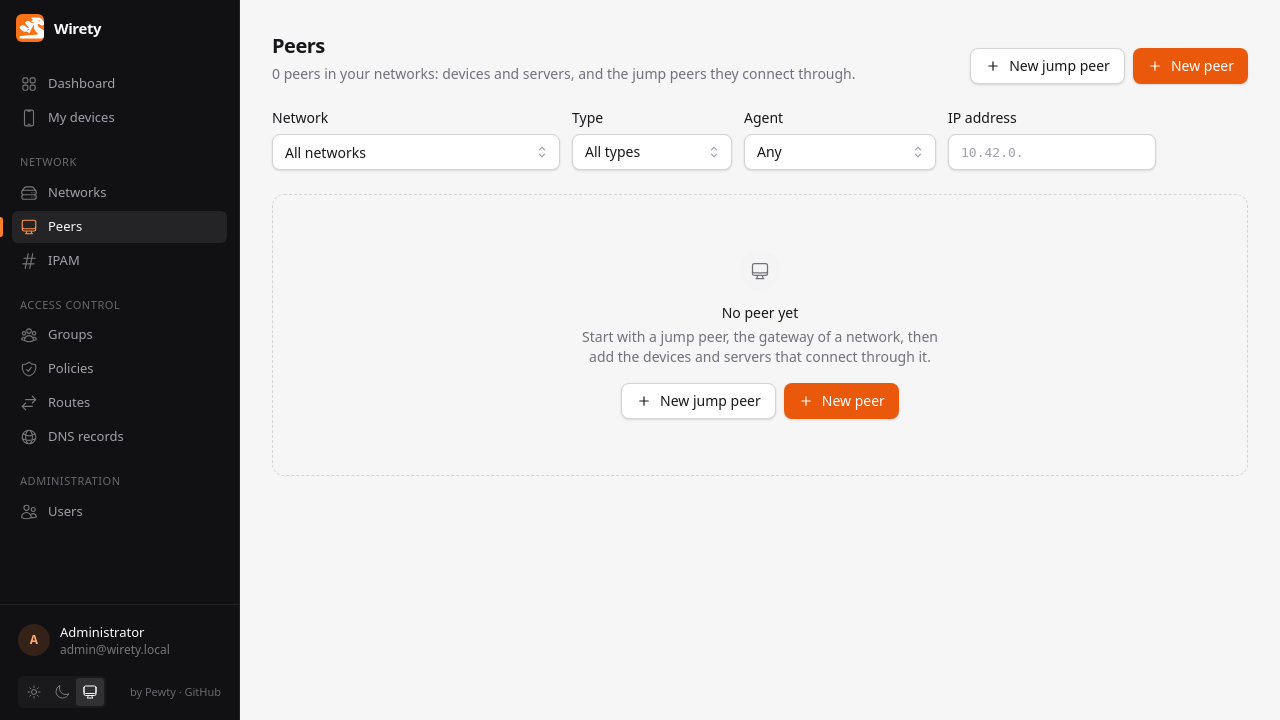
Test: New jump peer / edit jump peer › checks the form before sending anything
Click the 1st button "New jump peer" at (1048, 66), box [970,48,1125,84]
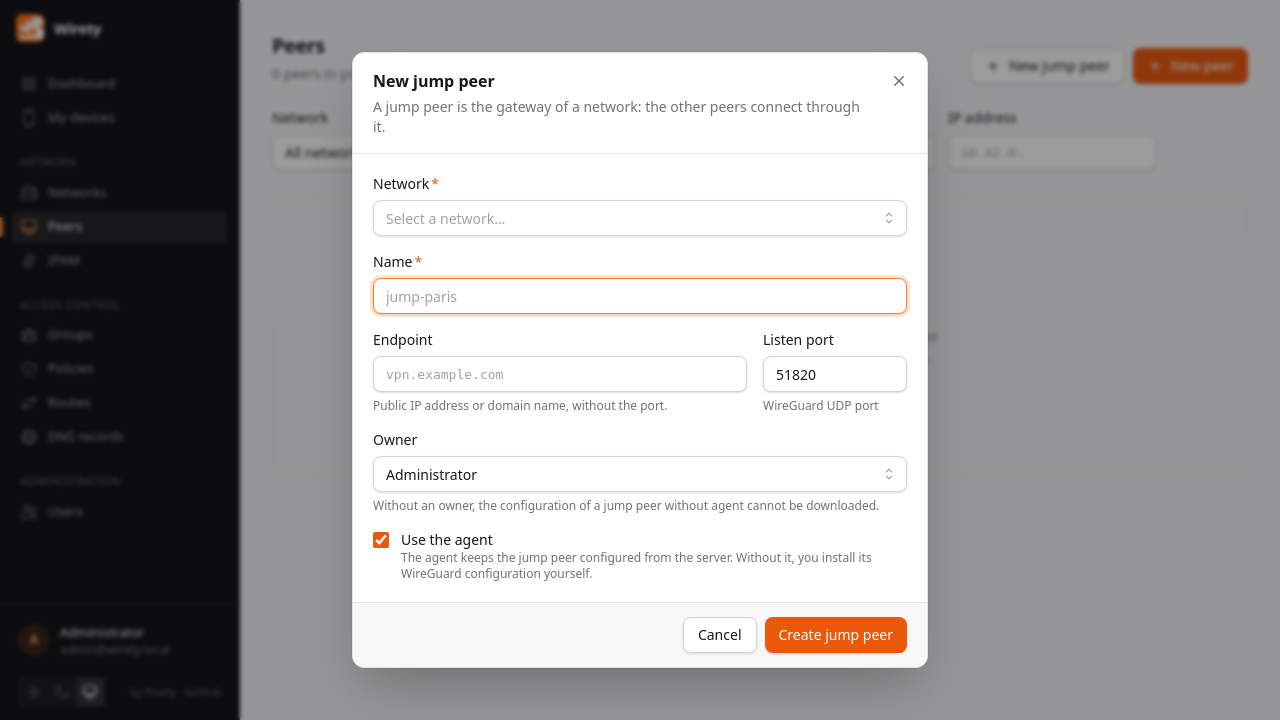
Replace the text in the number field labelled "Listen port" with "70000" at (835, 374), box [763,356,907,392]
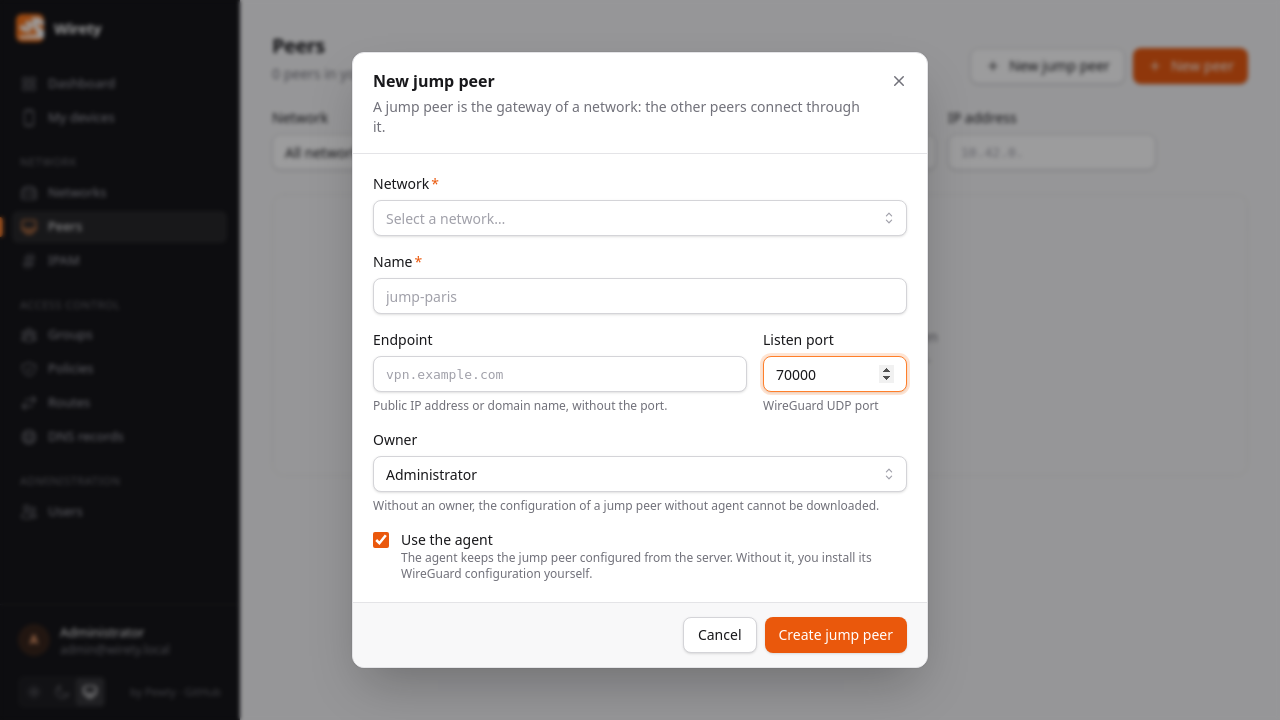
Click the button "Create jump peer" at (836, 635), box [764,617,907,653]
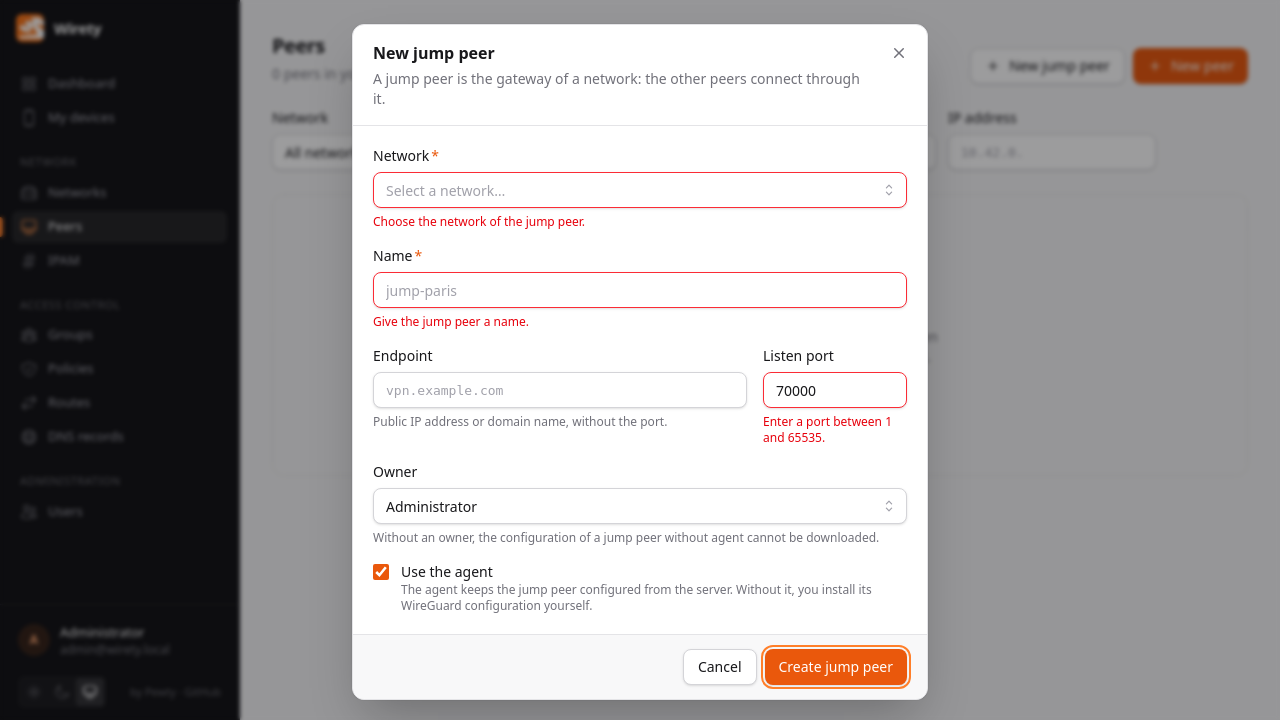
Check: the text "Choose the network of the jump peer." is shown, box [373,213,585,230]
Check: the text "Give the jump peer a name." is shown, box [373,313,529,330]
Check: the text "Enter a port between 1 and 65535." is shown, box [763,414,907,446]
